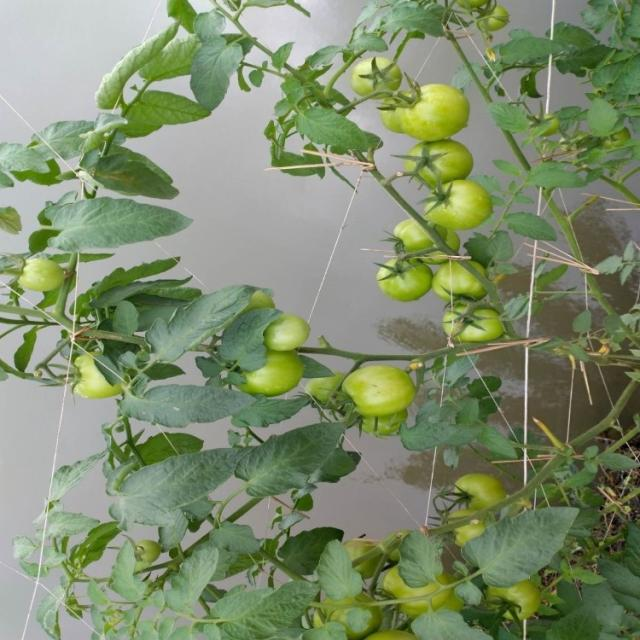tomato: (414, 167, 512, 248), (368, 211, 479, 278), (371, 84, 481, 151), (214, 343, 324, 410), (319, 355, 414, 430), (435, 285, 522, 361), (349, 51, 417, 142), (395, 130, 488, 195), (384, 553, 473, 614), (452, 468, 540, 529), (371, 248, 434, 322), (474, 566, 550, 622), (8, 246, 82, 302), (332, 526, 398, 586), (62, 343, 138, 395), (429, 253, 493, 311), (264, 306, 321, 367), (320, 595, 389, 640), (472, 2, 508, 34)
